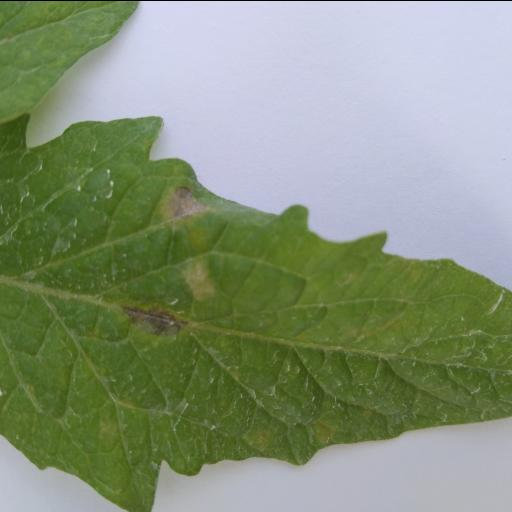disease_tomato: (0, 113, 512, 512)
